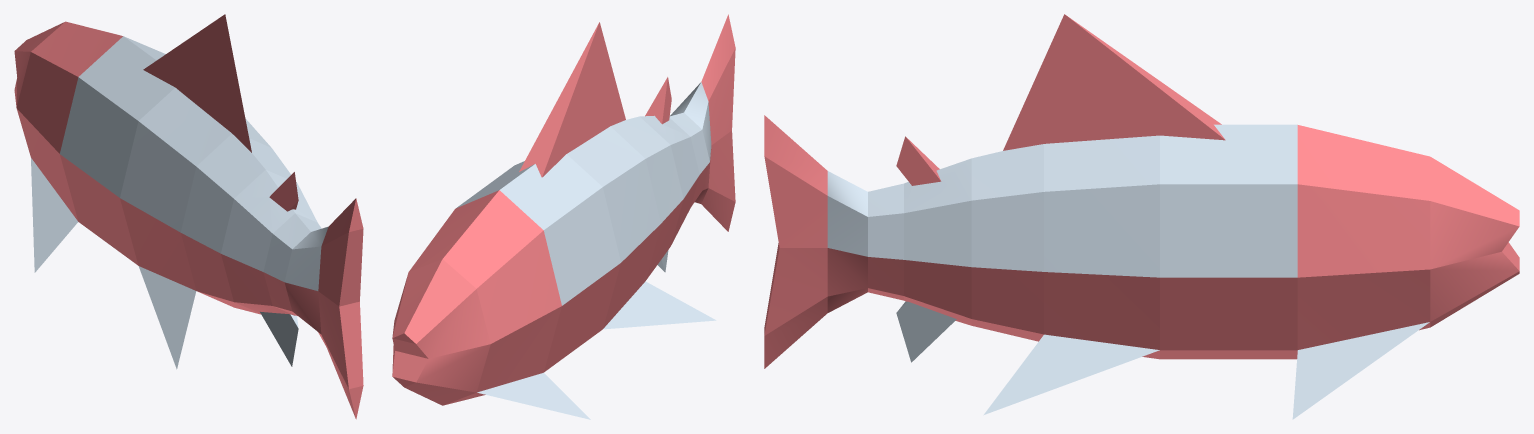
Rendered from fish.dae.
3 views of the same model, side by side, from view 1: azimuth 30°, elevation 25°; view 2: azimuth 150°, elevation 25°; view 3: azimuth 270°, elevation 25° (orthographic). The views are drawn at different scales.
Parts seen in each view (by area): view 1: fish; view 2: fish; view 3: fish.
Boxes of the visible parts, <box> form: fish: <box>14,14,363,419</box>; fish: <box>392,14,735,419</box>; fish: <box>764,14,1519,419</box>.
Bounding box in the file's own units: 0.1978 × 0.3222 × 0.6208.
